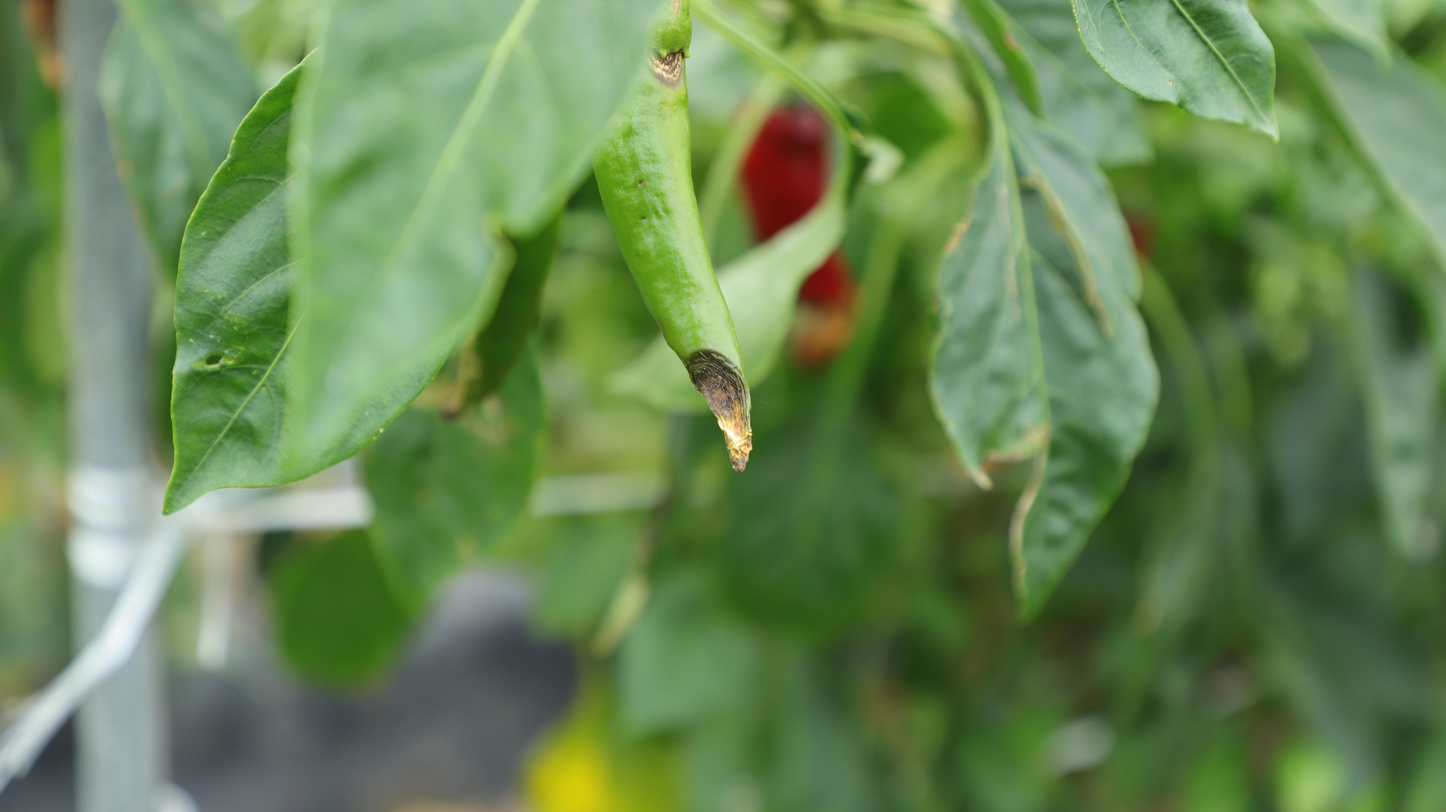Busuk Buah Antraknosa: (583, 0, 763, 476)
